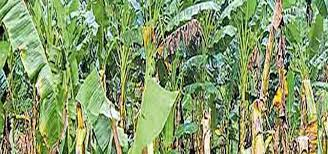damaged_jute: (6, 4, 305, 154)
